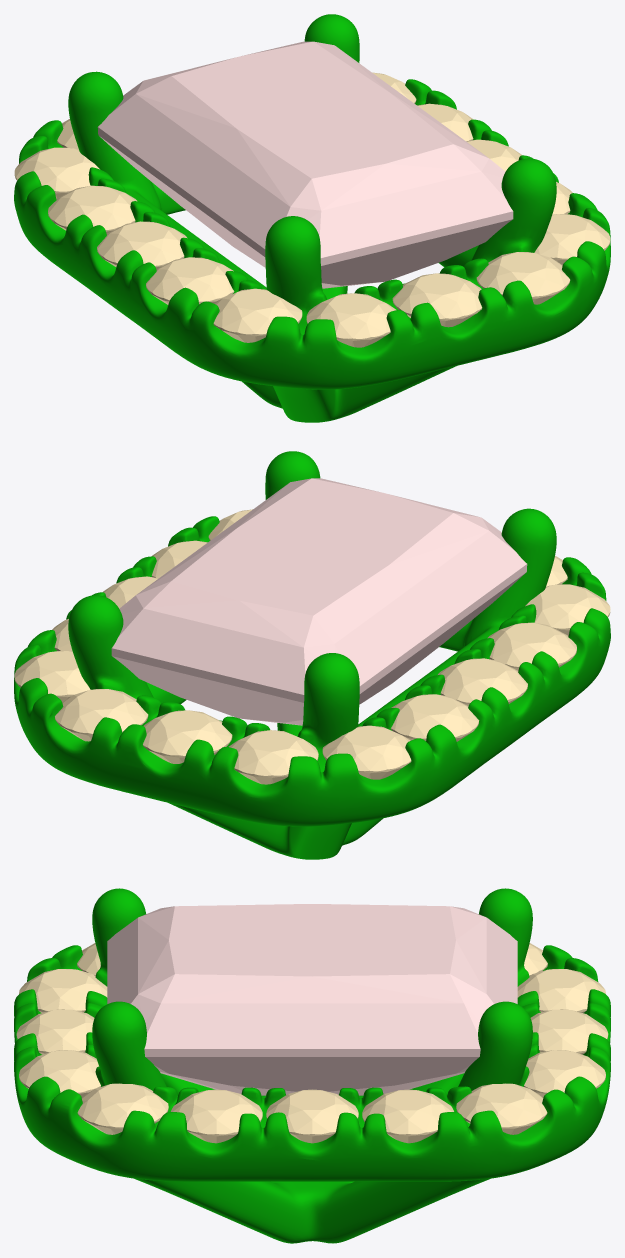
The picture shows the model from 3 angles, top to bottom: view 1: azimuth 30°, elevation 25°; view 2: azimuth 150°, elevation 25°; view 3: azimuth 270°, elevation 25°; orthographic projection.
Parts seen in each view (by area): view 1: Metal01, Diamond_Radiant, Diamond_Round.015, Diamond_Round.011, Diamond_Round.010, Diamond_Round.012, Diamond_Round.009, Diamond_Round.008, Diamond_Round.007, Diamond_Round.006, Diamond_Round.013, Diamond_Round.001 (+1 smaller); view 2: Metal01, Diamond_Radiant, Diamond_Round.004, Diamond_Round.005, Diamond_Round.006, Diamond_Round.003, Diamond_Round.007, Diamond_Round.008, Diamond_Round.009, Diamond_Round.010, Diamond_Round.002, Diamond_Round.014 (+1 smaller); view 3: Metal01, Diamond_Radiant, Diamond_Round.001, Diamond_Round.014, Diamond_Round, Diamond_Round.013, Diamond_Round.002, Diamond_Round.012, Diamond_Round.003, Diamond_Round.011, Diamond_Round.005, Diamond_Round.015 (+3 smaller).
Boxes of the visible parts, bbox=[...] form: Metal01: bbox=[14, 14, 610, 422]; Diamond_Radiant: bbox=[97, 41, 513, 288]; Diamond_Round.015: bbox=[392, 273, 482, 327]; Diamond_Round.011: bbox=[306, 293, 396, 347]; Diamond_Round.010: bbox=[213, 288, 302, 342]; Diamond_Round.012: bbox=[476, 252, 570, 304]; Diamond_Round.009: bbox=[146, 257, 234, 304]; Diamond_Round.008: bbox=[97, 221, 187, 269]; Diamond_Round.007: bbox=[48, 185, 137, 233]; Diamond_Round.006: bbox=[14, 147, 99, 198]; Diamond_Round.013: bbox=[534, 214, 610, 265]; Diamond_Round.001: bbox=[417, 103, 473, 141]; Metal01: bbox=[14, 451, 610, 859]; Diamond_Radiant: bbox=[111, 478, 527, 725]; Diamond_Round.004: bbox=[143, 710, 232, 763]; Diamond_Round.005: bbox=[228, 730, 318, 784]; Diamond_Round.006: bbox=[322, 725, 411, 779]; Diamond_Round.003: bbox=[55, 689, 148, 741]; Diamond_Round.007: bbox=[391, 694, 479, 741]; Diamond_Round.008: bbox=[438, 658, 527, 705]; Diamond_Round.009: bbox=[487, 622, 576, 670]; Diamond_Round.010: bbox=[525, 584, 610, 635]; Diamond_Round.002: bbox=[14, 651, 90, 702]; Diamond_Round.014: bbox=[151, 540, 207, 577]; Metal01: bbox=[14, 888, 610, 1243]; Diamond_Radiant: bbox=[107, 904, 517, 1095]; Diamond_Round.001: bbox=[362, 1089, 453, 1143]; Diamond_Round.014: bbox=[171, 1089, 262, 1143]; Diamond_Round: bbox=[266, 1089, 358, 1143]; Diamond_Round.013: bbox=[77, 1083, 168, 1134]; Diamond_Round.002: bbox=[456, 1083, 547, 1134]; Diamond_Round.012: bbox=[19, 1050, 100, 1097]; Diamond_Round.003: bbox=[524, 1050, 605, 1097]; Diamond_Round.011: bbox=[19, 969, 107, 1012]; Diamond_Round.005: bbox=[517, 969, 605, 1012]; Diamond_Round.015: bbox=[16, 1009, 94, 1054].
Size of the model in its own units: 9.29 by 6.28 by 11.64.
